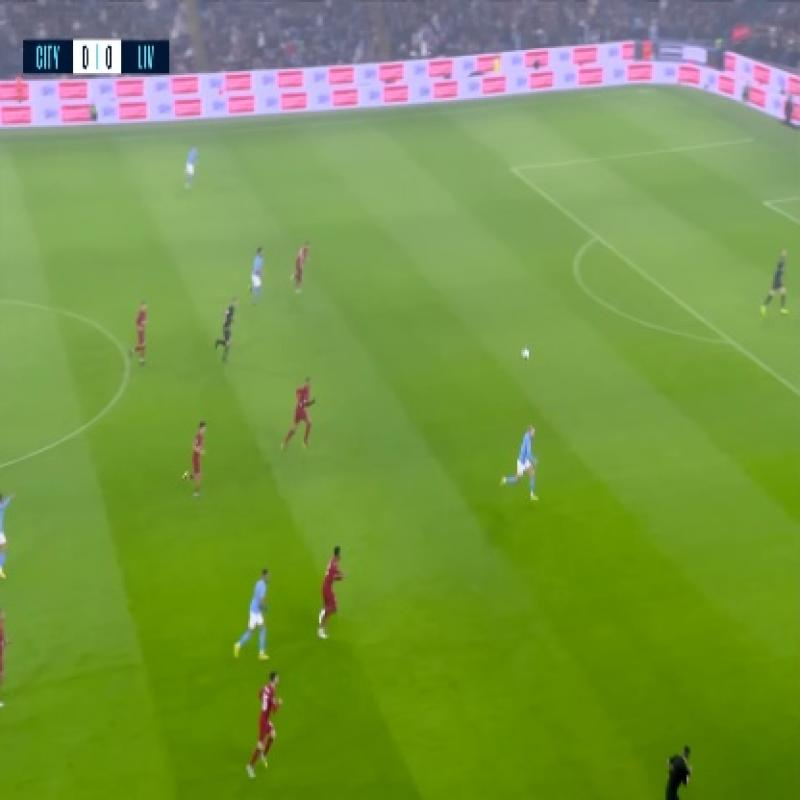10: (590, 225, 604, 244)
11: (723, 333, 737, 352)
2: (746, 132, 756, 144)
7: (760, 194, 772, 210)
9: (504, 160, 517, 178)
c: (106, 338, 138, 378)
